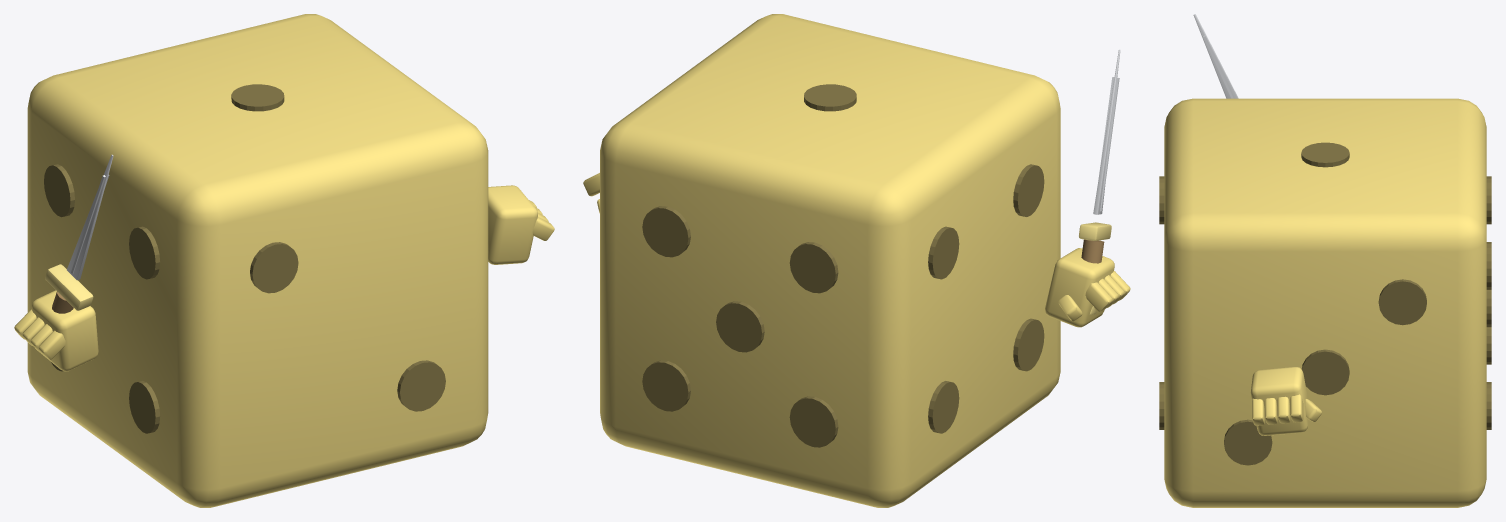
The model's file is die_hero.glb.
3 renders of one model, left to right at view 1: azimuth 30°, elevation 25°; view 2: azimuth 150°, elevation 25°; view 3: azimuth 270°, elevation 25°, orthographic. The views are drawn at different scales.
Visible parts, largest first — view 1: DIE_Body, HAND_R_Palm, HAND_L_Palm, DIE_Pip_2_7, DIE_Pip_2_8, HAND_L, DIE_Pip_4_19, DIE_Pip_4_20, DIE_Pip_4_18, DIE_Pip_1_0, SWORD_Guard, SWORD_Blade; view 2: DIE_Body, HAND_L_Palm, DIE_Pip_5_9, DIE_Pip_5_13, DIE_Pip_5_10, DIE_Pip_5_11, DIE_Pip_5_12, DIE_Pip_4_18, DIE_Pip_4_17, DIE_Pip_4_20, DIE_Pip_4_19, DIE_Pip_1_0 (+2 smaller); view 3: DIE_Body, HAND_R_Palm, DIE_Pip_3_14, DIE_Pip_3_15, DIE_Pip_3_16, HAND_R, DIE_Pip_1_0, SWORD_Blade.
Part boxes in pixels (x1,y1,x2,y2): DIE_Body: [27, 14, 488, 507]; HAND_R_Palm: [488, 185, 537, 264]; HAND_L_Palm: [31, 290, 98, 371]; DIE_Pip_2_7: [250, 242, 298, 293]; DIE_Pip_2_8: [397, 360, 445, 411]; HAND_L: [14, 309, 65, 359]; DIE_Pip_4_19: [44, 164, 74, 217]; DIE_Pip_4_20: [129, 226, 160, 279]; DIE_Pip_4_18: [129, 381, 160, 433]; DIE_Pip_1_0: [231, 84, 284, 111]; SWORD_Guard: [45, 264, 93, 310]; SWORD_Blade: [67, 154, 113, 280]; DIE_Body: [600, 14, 1060, 507]; HAND_L_Palm: [1045, 248, 1114, 327]; DIE_Pip_5_9: [789, 396, 838, 447]; DIE_Pip_5_13: [642, 206, 690, 257]; DIE_Pip_5_10: [789, 242, 838, 293]; DIE_Pip_5_11: [716, 301, 764, 352]; DIE_Pip_5_12: [642, 360, 690, 411]; DIE_Pip_4_18: [1013, 318, 1044, 371]; DIE_Pip_4_17: [928, 381, 959, 433]; DIE_Pip_4_20: [1013, 164, 1044, 216]; DIE_Pip_4_19: [928, 226, 959, 279]; DIE_Pip_1_0: [804, 84, 856, 111]; DIE_Body: [1164, 98, 1486, 507]; HAND_R_Palm: [1250, 367, 1308, 435]; DIE_Pip_3_14: [1378, 279, 1426, 325]; DIE_Pip_3_15: [1301, 349, 1349, 395]; DIE_Pip_3_16: [1224, 419, 1272, 465]; HAND_R: [1252, 394, 1303, 425]; DIE_Pip_1_0: [1301, 142, 1349, 167]; SWORD_Blade: [1193, 14, 1238, 98].
Size of the model in its own units: 1.7 by 1.17 by 1.03.
